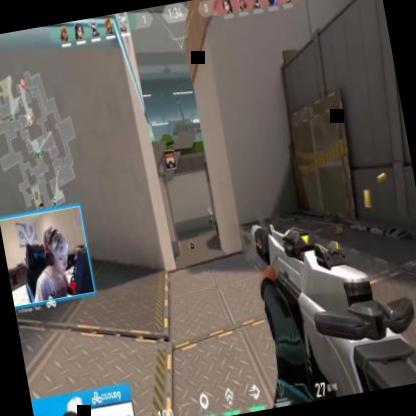enemy: (206, 208, 213, 225)
enemy_head: (207, 209, 210, 212)
